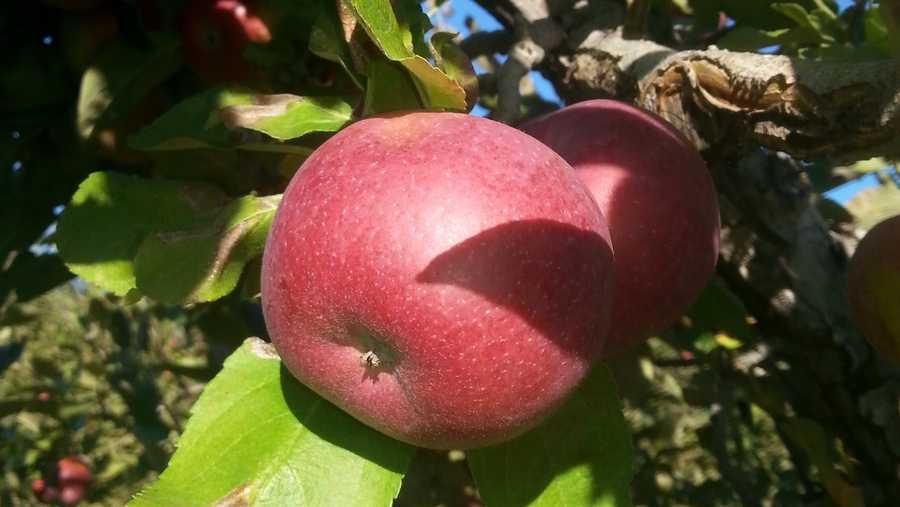apple: (261, 113, 615, 454), (511, 100, 720, 350)
